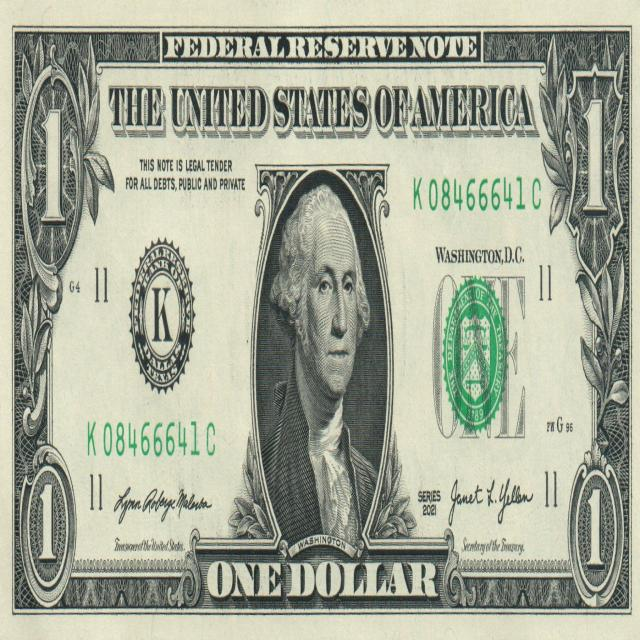SerialNumber: (88, 421, 214, 457), (414, 177, 541, 211)
